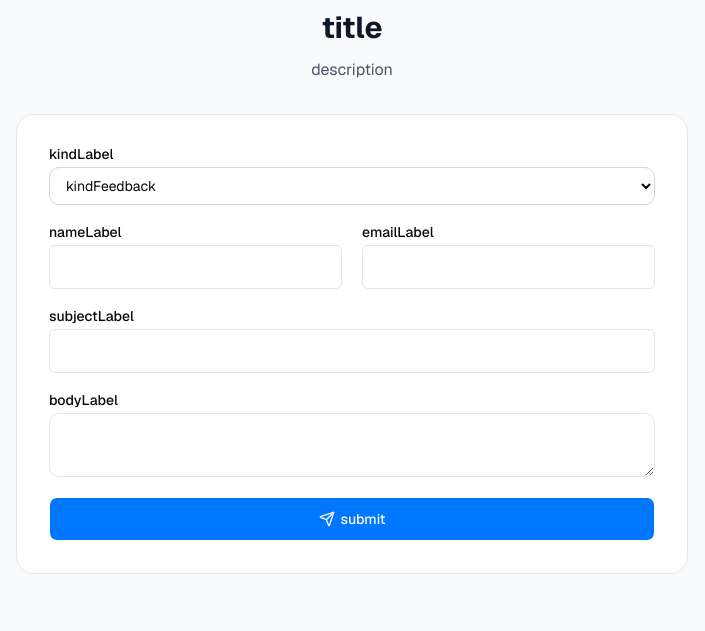
Scenario: ContactForm › shows an error when the server action fails
This screenshot has width=705, height=631.
Type "jane@example.com" into the field labelled "emailLabel".
click(508, 267); type("jane@example.com")  # box [362,245,655,289]
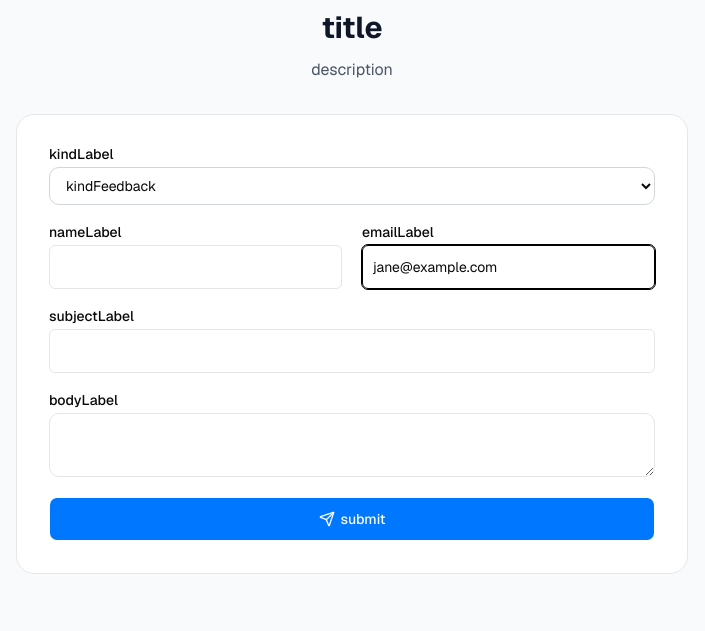
Type "Hello" into the text box labelled "bodyLabel".
click(352, 445); type("Hello")  # box [49,413,655,477]
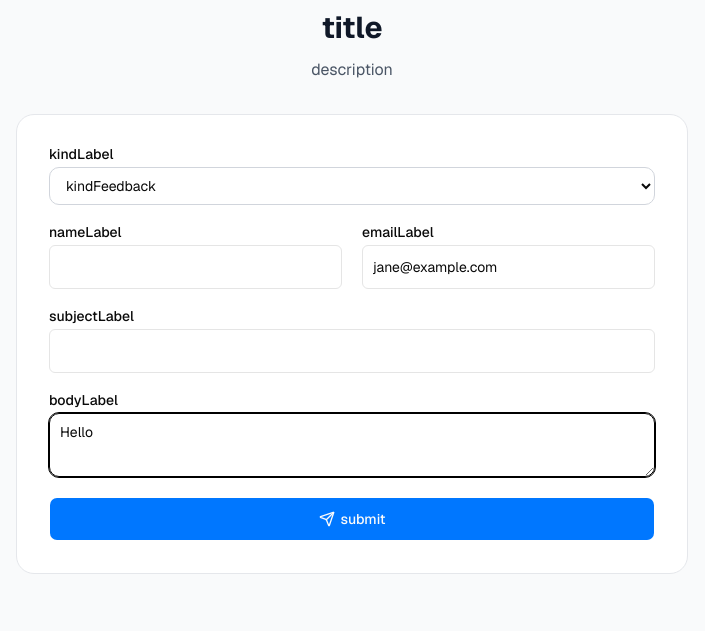
Click the button "submit".
click(352, 519)  # box [49,497,655,541]
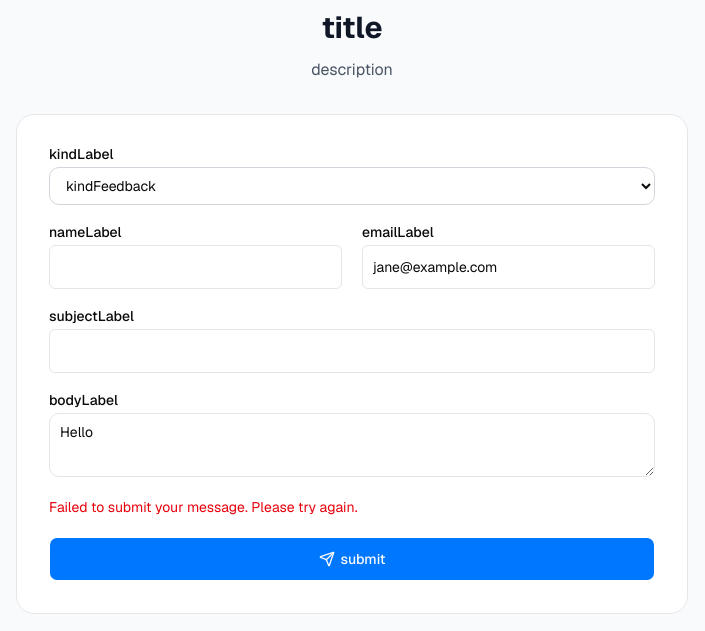
Result: the message reads "Failed to submit your message. Please try again." at [49,498,358,516]
